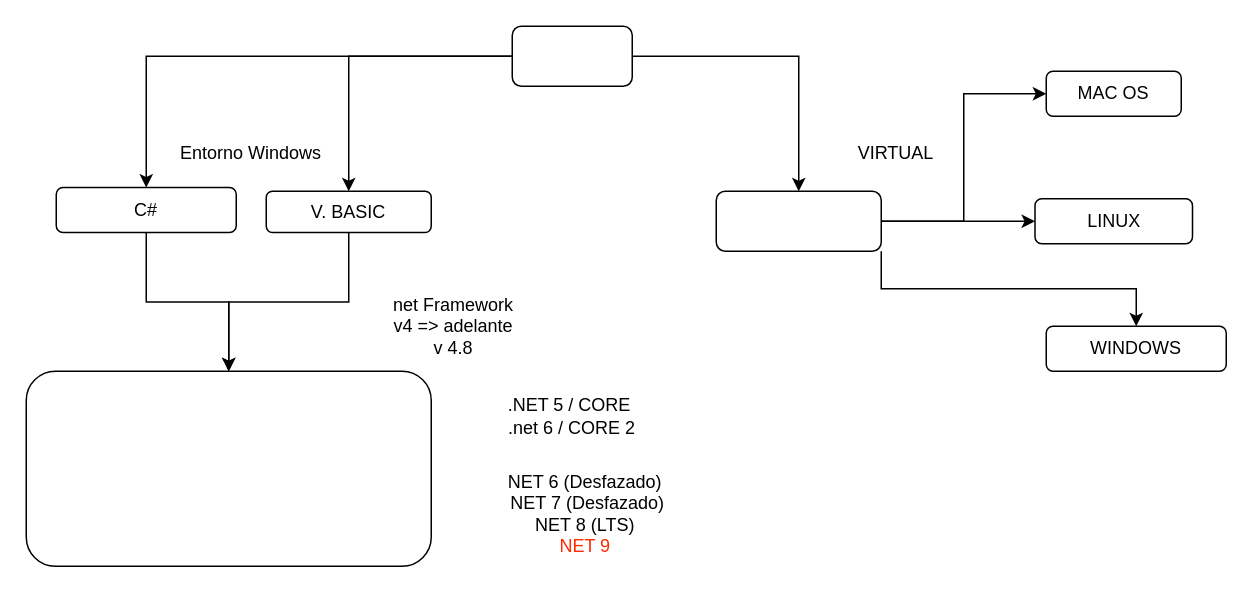
This 1253x593 diagram has some shape labels left out. The shapes that lost their labels are listed below. From the top down, each one's box as (x1, y1, x2, y2) in pixels, then its label:
(511, 25, 632, 86): c ++
(715, 190, 881, 251): JAVA
(25, 370, 431, 566): VISUAL STUDIO 6.0 8.0 2010 2012 2015 2017 2019 2022
